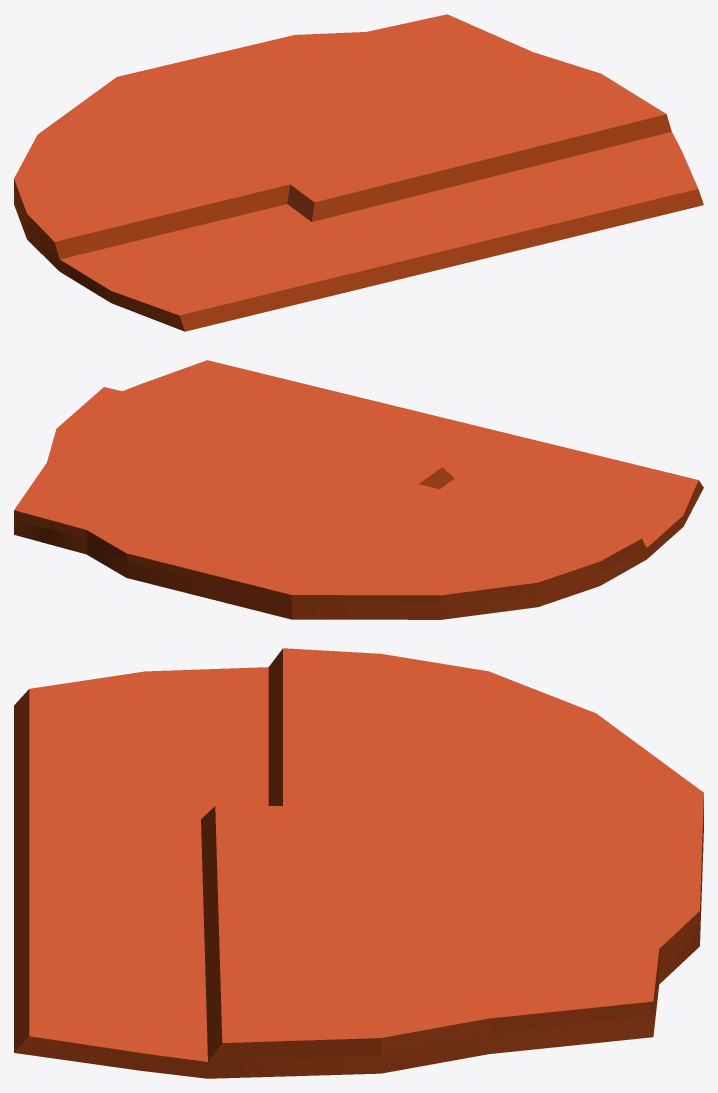
The model's file is TemplePiece.fbx.
The picture shows the model from 3 angles, top to bottom: view 1: azimuth 30°, elevation 25°; view 2: azimuth 150°, elevation 25°; view 3: azimuth 270°, elevation 25°; orthographic projection. The views are drawn at different scales.
Visible parts, largest first — view 1: Box070; view 2: Box070; view 3: Box070.
Boxes of the visible parts, left/top/right/bottom form: Box070: left=14, top=14, right=703, bottom=331; Box070: left=14, top=360, right=703, bottom=619; Box070: left=14, top=648, right=703, bottom=1078.
Size of the model in its own units: 212 by 8.92 by 157.
